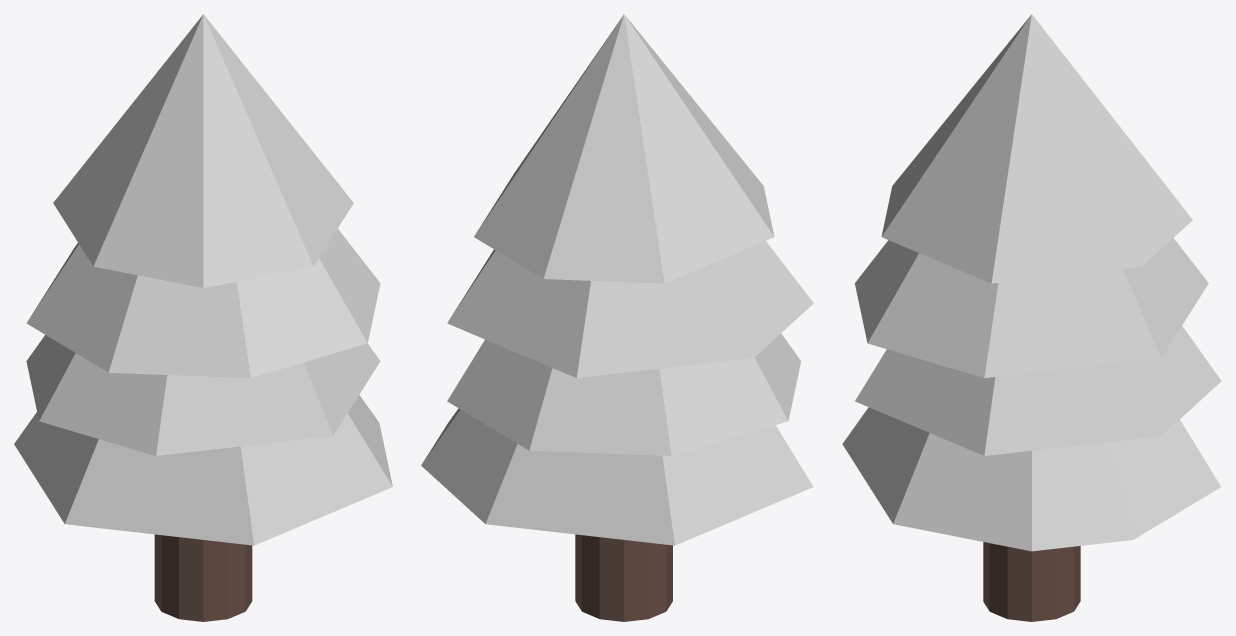
File: white_tree.fbx
3 renders of one model, left to right at view 1: azimuth 30°, elevation 25°; view 2: azimuth 150°, elevation 25°; view 3: azimuth 270°, elevation 25°, orthographic.
Parts seen in each view (by area): view 1: Cylinder_1; view 2: Cylinder_1; view 3: Cylinder_1.
Part boxes in pixels (x1,y1,x2,y2): Cylinder_1: (14, 14, 392, 621); Cylinder_1: (421, 14, 813, 621); Cylinder_1: (842, 14, 1221, 621).
Size of the model in its own units: 223 by 367 by 215.
